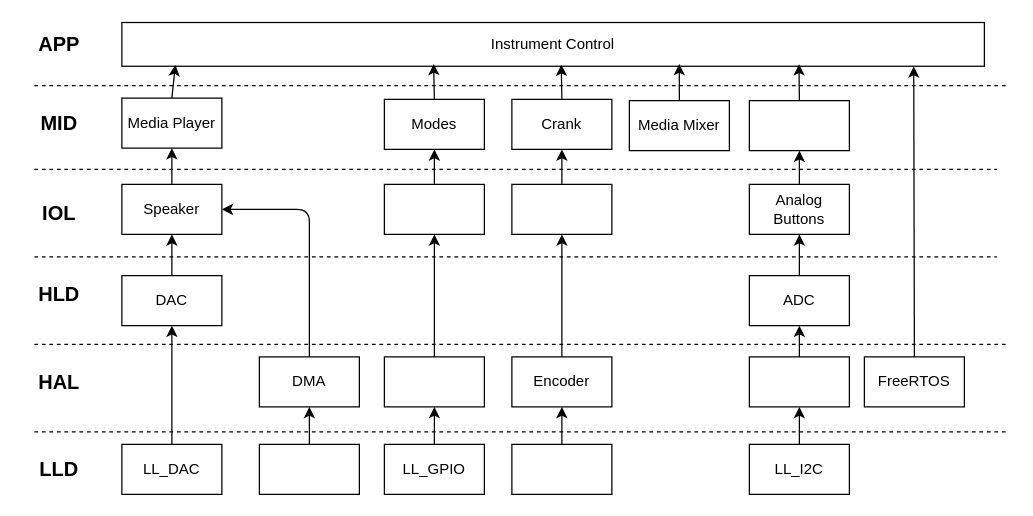
This 1033x516 diagram has some shape labels left out. The box of each missing label's shape, as (x1, y1, x2, y2) in pixels:
GPIO: (383, 356, 484, 407)
I2C: (748, 356, 849, 407)
LL_QEI: (511, 443, 612, 494)
LL_uDMA: (258, 443, 359, 494)
Notes: (748, 99, 849, 151)
Rotory Encoder: (511, 183, 612, 234)
Switches: (383, 183, 484, 234)
